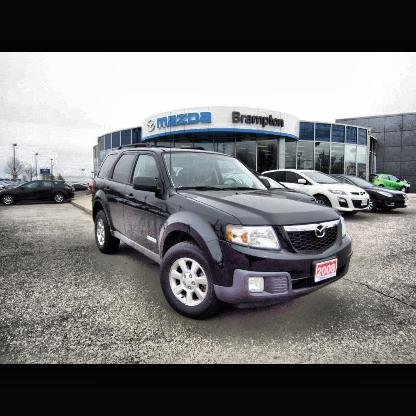Mazda Tribute SUV 2011: (91, 146, 353, 323)
